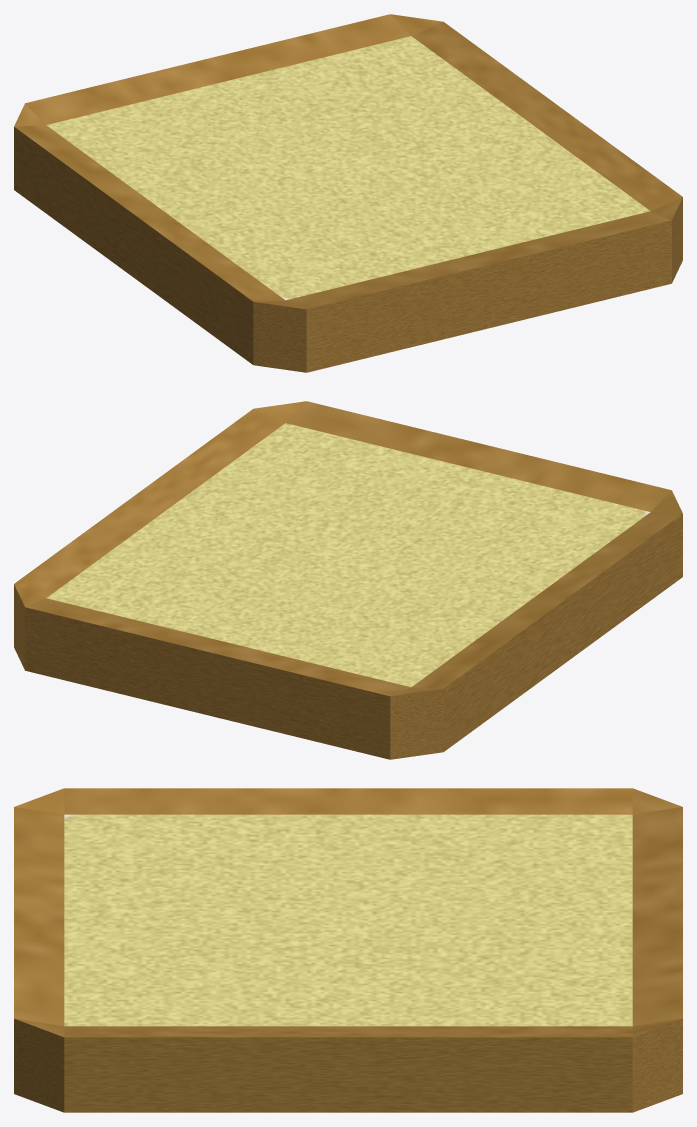
Rendered from Bread.obj.
3 views of the same model, one above another, from view 1: azimuth 30°, elevation 25°; view 2: azimuth 150°, elevation 25°; view 3: azimuth 270°, elevation 25° (orthographic). The views are drawn at different scales.
Visible parts, largest first — view 1: Bread_lowpoly_Cube; view 2: Bread_lowpoly_Cube; view 3: Bread_lowpoly_Cube.
Boxes of the visible parts, x1,y1,x2,y2 form: Bread_lowpoly_Cube: (14,14,682,372); Bread_lowpoly_Cube: (14,401,682,759); Bread_lowpoly_Cube: (14,788,682,1112).
Bounding box in the file's own units: 1.76 × 0.2487 × 2.
1 material, 1 textured.
